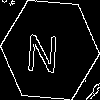N: (25, 25, 60, 73)
